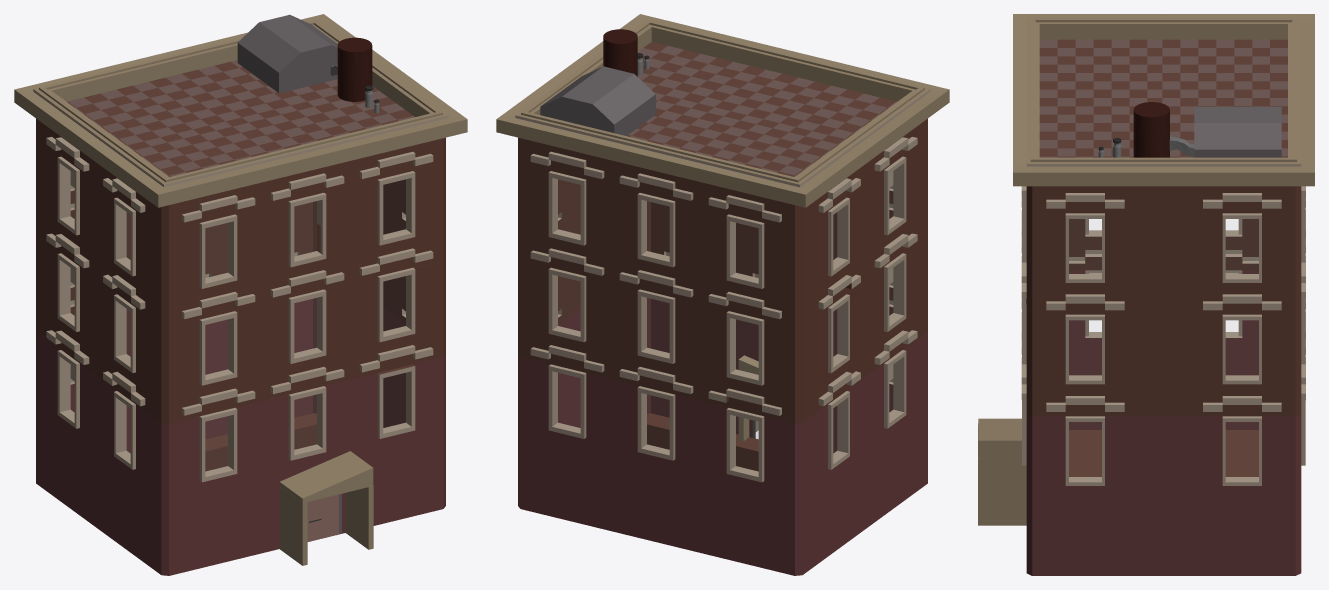
File: MiddleHeight_BuildingUpdated.fbx
3 views of the same model, side by side, from view 1: azimuth 30°, elevation 25°; view 2: azimuth 150°, elevation 25°; view 3: azimuth 270°, elevation 25° (orthographic). The views are drawn at different scales.
Parts seen in each view (by area): view 1: MiddleHeight_Building, Door_Frame, RoofTopBuilding, Main_Savupiippu; view 2: MiddleHeight_Building, RoofTopBuilding, Main_Savupiippu, Door_Frame; view 3: MiddleHeight_Building, Door_Frame, RoofTopBuilding, Main_Savupiippu.
Part boxes in pixels (<box>): MiddleHeight_Building: <box>14,14,467,575</box>; Door_Frame: <box>279,451,373,565</box>; RoofTopBuilding: <box>237,14,337,93</box>; Main_Savupiippu: <box>337,37,372,101</box>; MiddleHeight_Building: <box>496,14,949,575</box>; RoofTopBuilding: <box>540,66,655,135</box>; Main_Savupiippu: <box>603,29,637,76</box>; Door_Frame: <box>738,355,758,441</box>; MiddleHeight_Building: <box>1013,14,1314,575</box>; Door_Frame: <box>978,418,1026,525</box>; RoofTopBuilding: <box>1194,107,1281,157</box>; Main_Savupiippu: <box>1133,102,1169,157</box>.
Size of the model in its own units: 772 by 860 by 1136.
